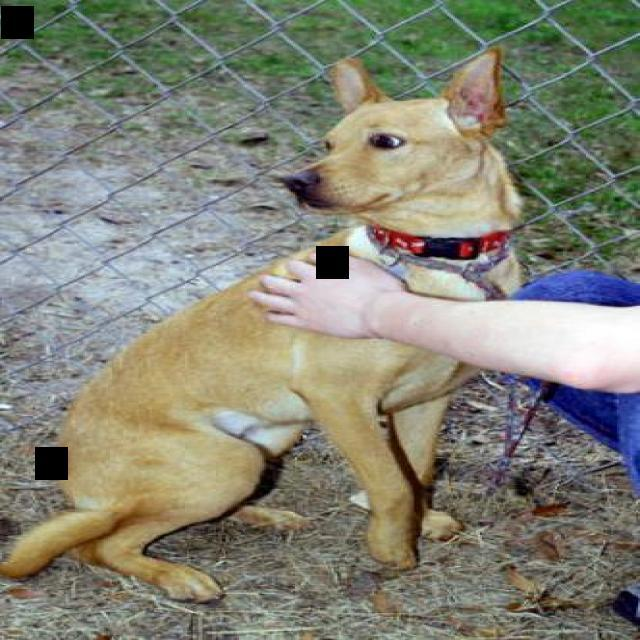adult_dog: (0, 41, 530, 606)
non-dog: (252, 250, 640, 638)
